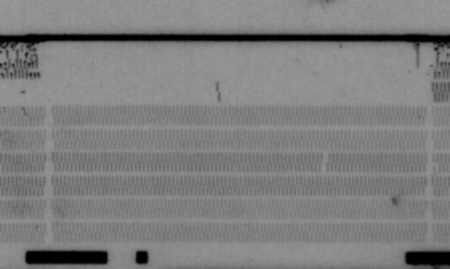Broken hole: (3, 40, 439, 107), (319, 152, 330, 173)
Oblique printing: (429, 164, 441, 177)
